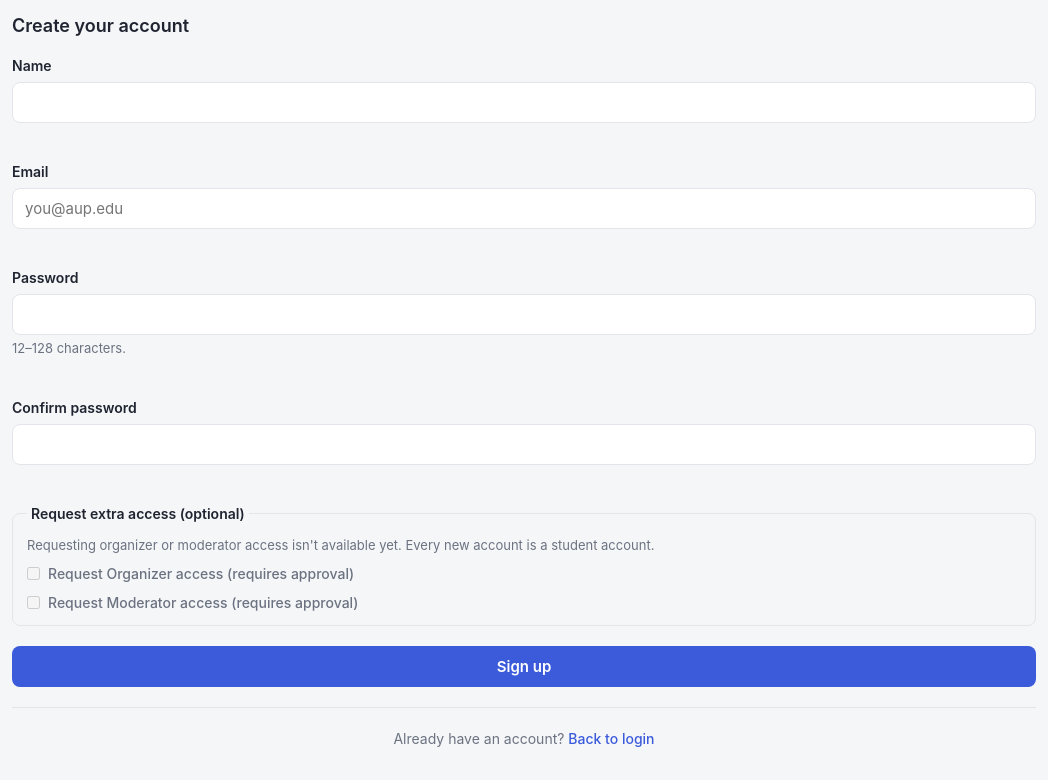
Test: Signup validation (QB-167) › does not trim passwords: spaces count toward the length
Type "  Ada  " into the field labelled "Name" at (524, 102), box left=12, top=82, right=1036, bottom=123
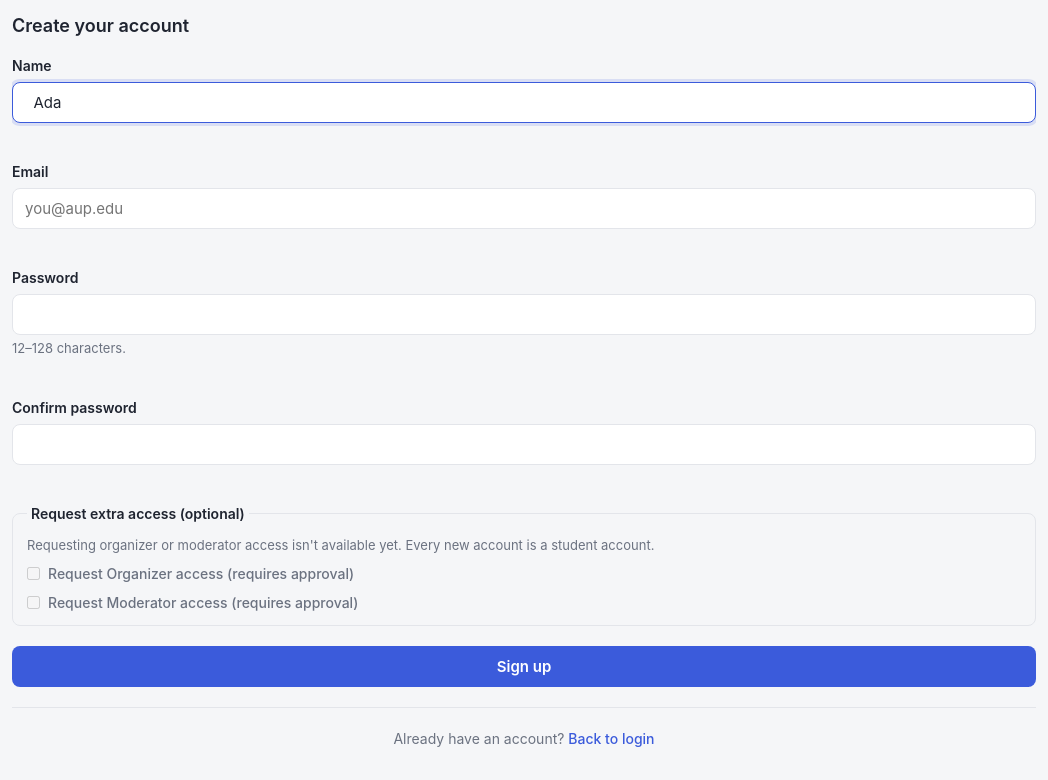
Type " ada@aup.edu " into the field labelled "Email" at (524, 208), box left=12, top=188, right=1036, bottom=229
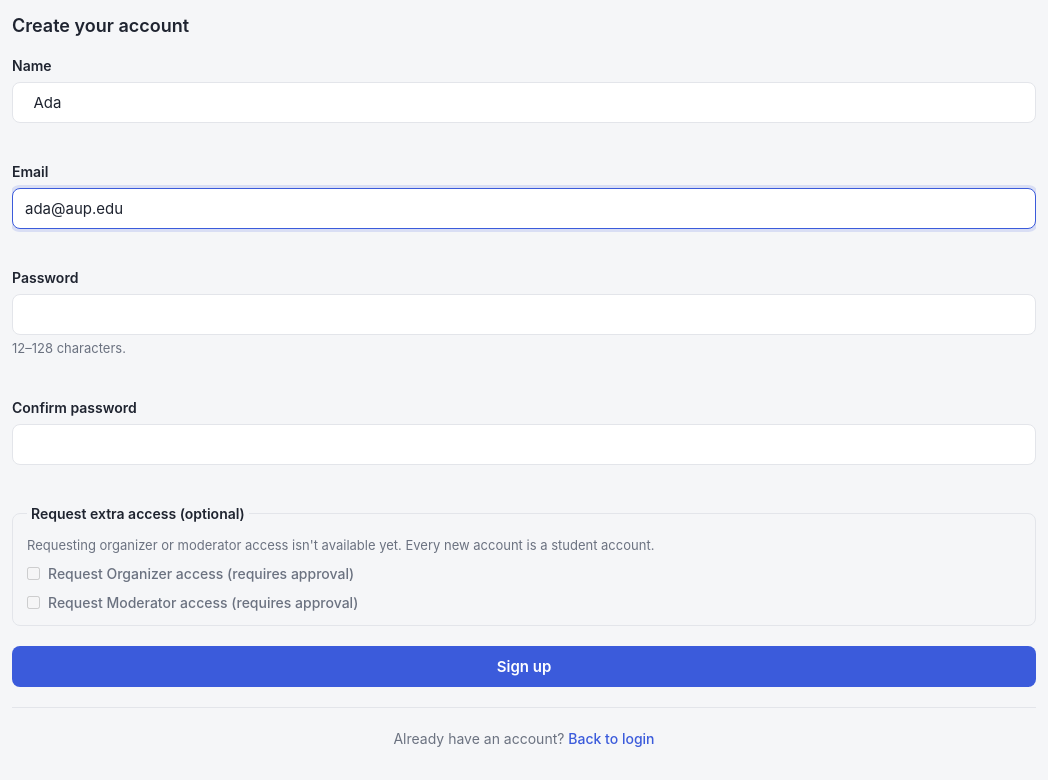
Type "   abcde   " into the password field labelled "Password" at (524, 314), box left=12, top=294, right=1036, bottom=335
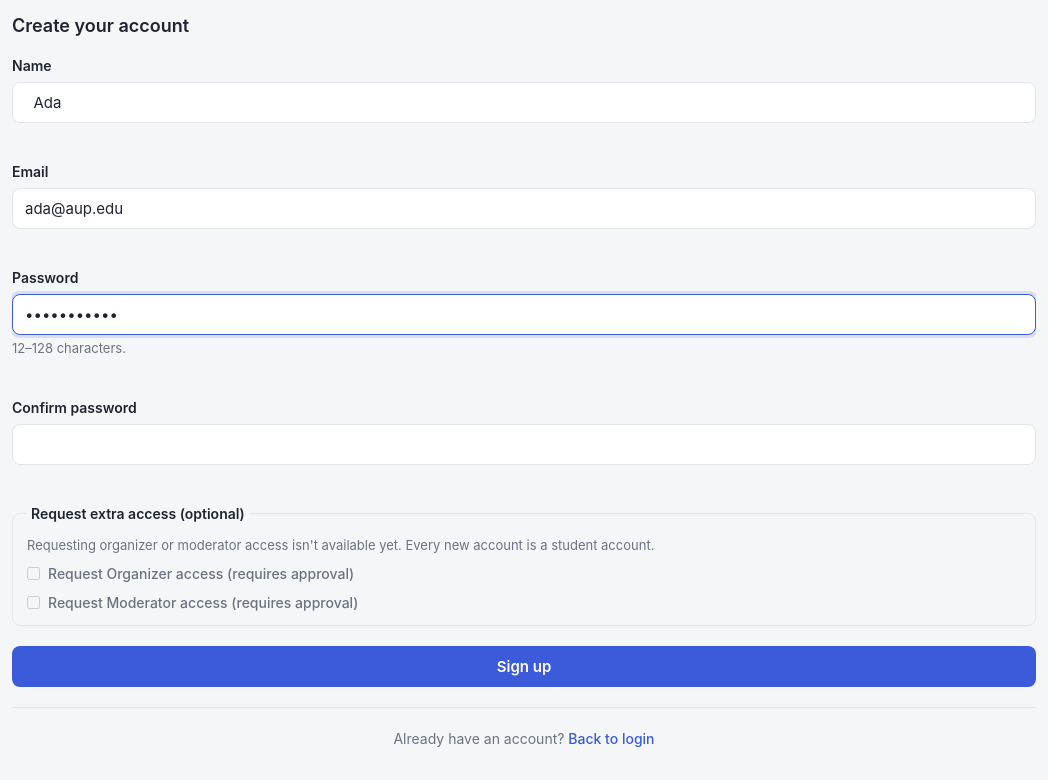
Type "   abcde   " into the password field labelled "Confirm password" at (524, 444), box left=12, top=424, right=1036, bottom=464
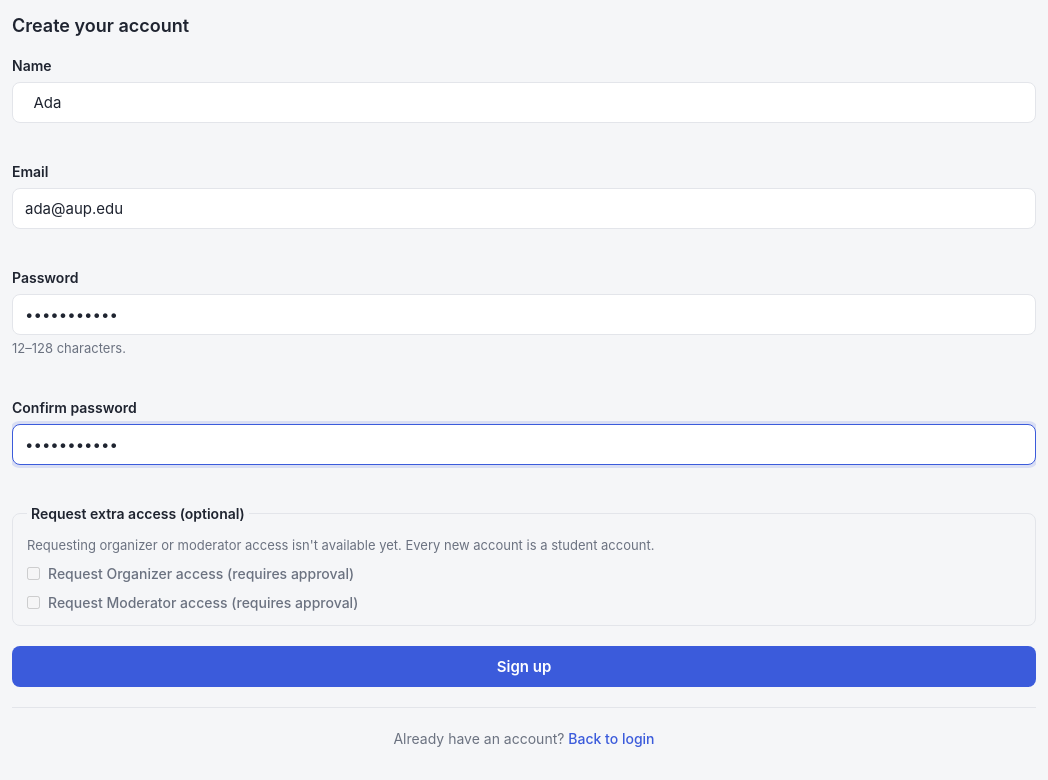
Click the button "Sign up" at (524, 666), box left=12, top=646, right=1036, bottom=687
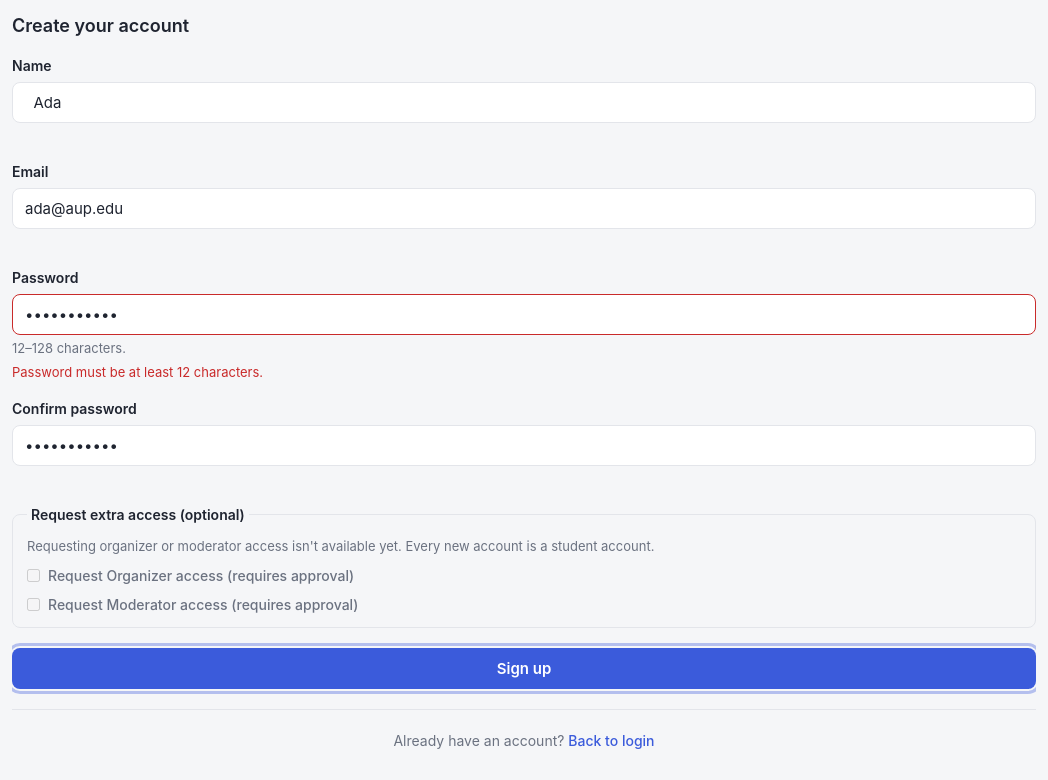
Now the text "Password must be at least 12 characters." is shown, box left=12, top=364, right=263, bottom=380
